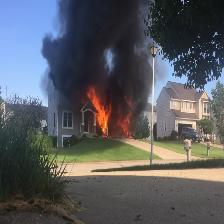fire: (90, 93, 111, 134)
smoke: (59, 1, 149, 90)
